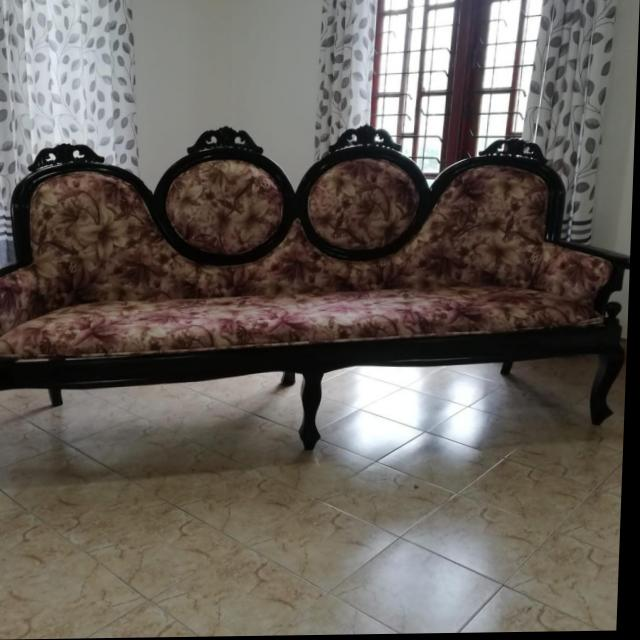Sofa: (0, 122, 636, 472)
